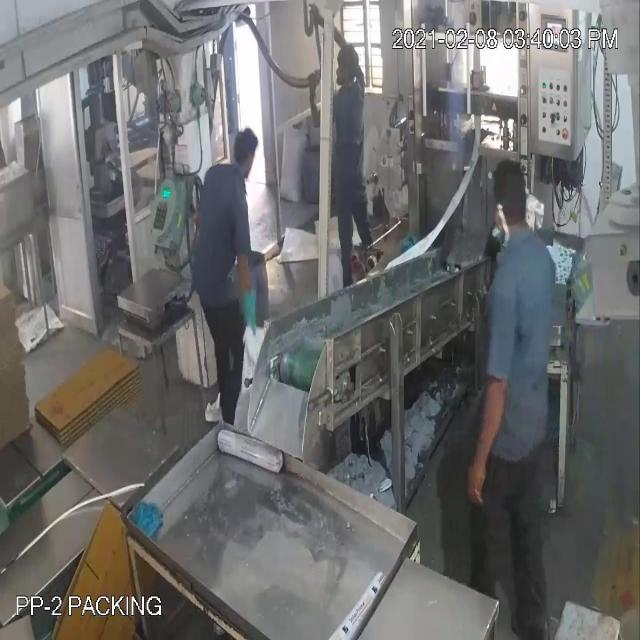Gloves: (44, 120, 486, 441)
